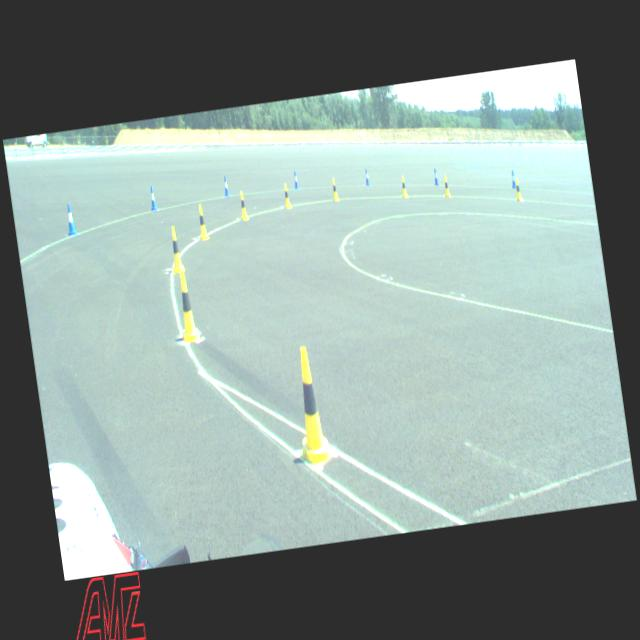blue_cone: (65, 203, 77, 235), (149, 186, 158, 210), (222, 176, 230, 197), (292, 171, 300, 189), (364, 168, 370, 186), (432, 168, 438, 185), (511, 170, 516, 188)
yellow_cone: (289, 346, 331, 464), (174, 272, 200, 342), (168, 226, 185, 274), (196, 204, 208, 240), (238, 191, 248, 220), (282, 184, 292, 208), (330, 178, 340, 200), (514, 178, 523, 202), (442, 175, 450, 198), (400, 176, 408, 198)
